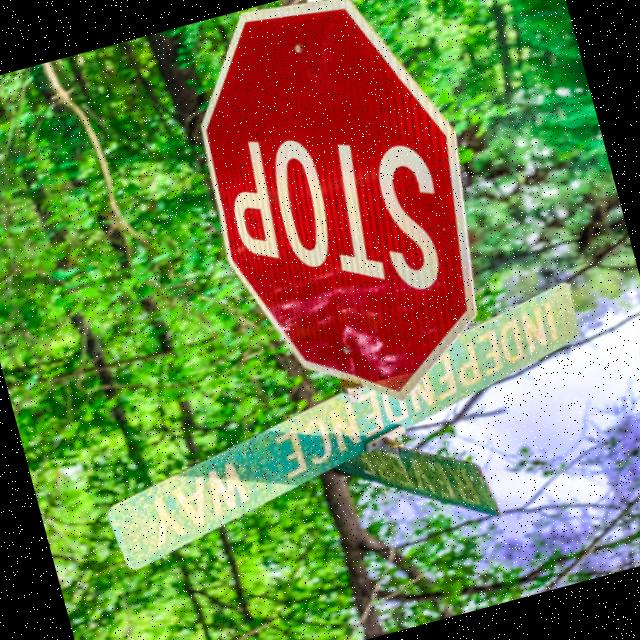stop: (153, 0, 527, 439)
